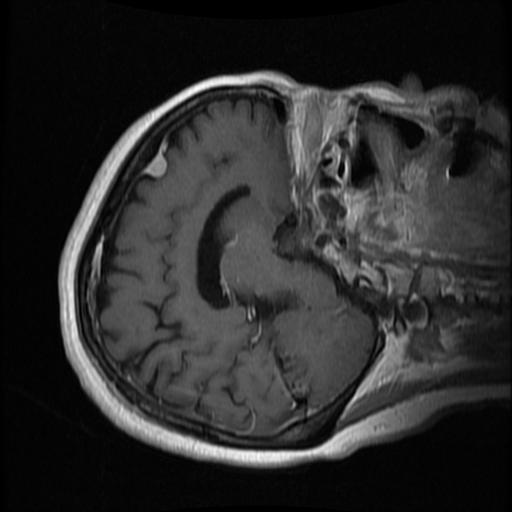meningioma: (143, 152, 166, 178)
